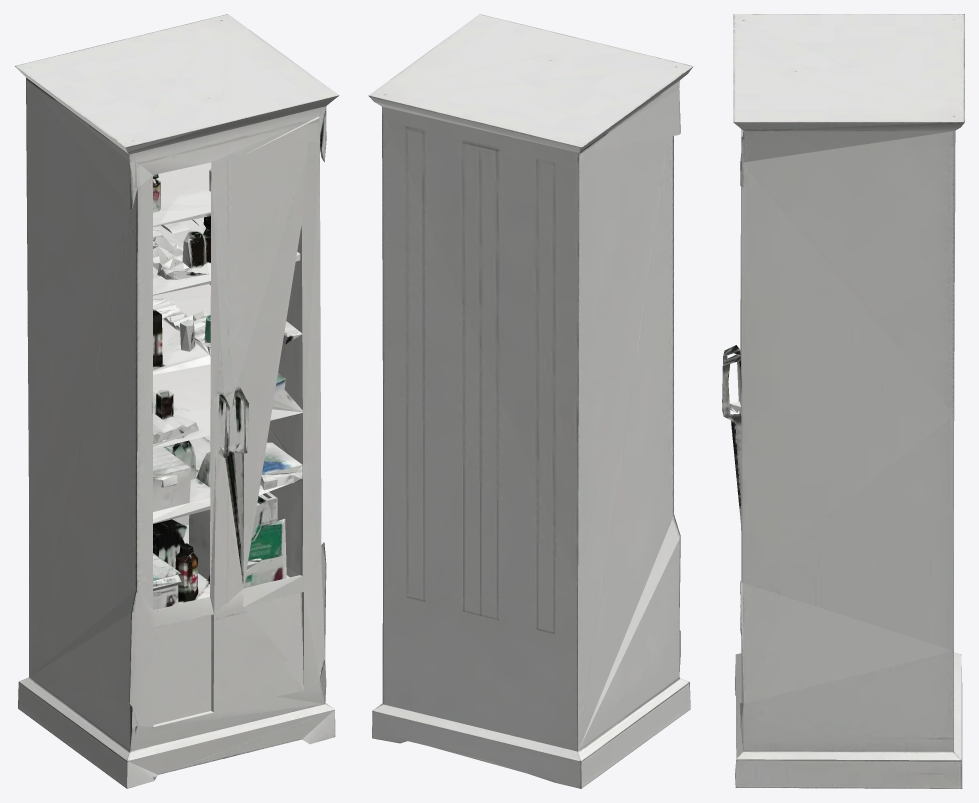
The model's file is medicine_cabinet.glb.
The picture shows the model from 3 angles, left to right: view 1: azimuth 30°, elevation 25°; view 2: azimuth 150°, elevation 25°; view 3: azimuth 270°, elevation 25°; orthographic projection. The views are drawn at different scales.
Size of the model in its own units: 0.6608 by 1.9 by 0.6256.
1 material, 1 textured.
